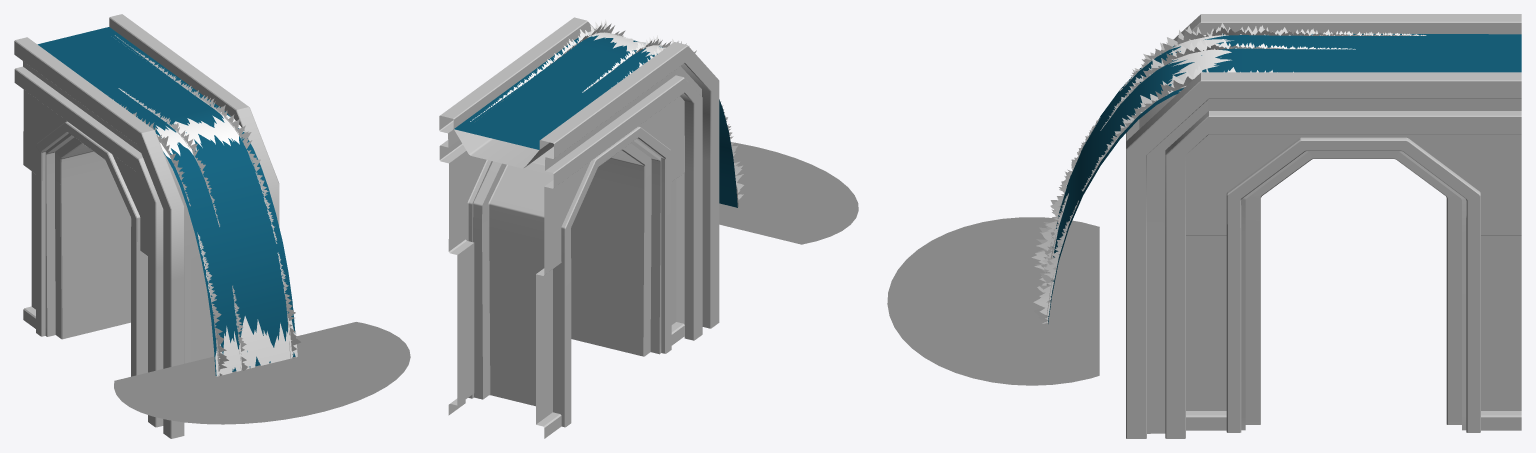
File: Pipe_Input_Cauldron.fbx
3 views of the same model, side by side, from view 1: azimuth 30°, elevation 25°; view 2: azimuth 150°, elevation 25°; view 3: azimuth 270°, elevation 25° (orthographic). The views are drawn at different scales.
Visible parts, largest first — view 1: Pipe_End, Liquid, Surface_Drop_01, Edges_Side, Bot_Edge_Slow, Bot_Edge_Fast, Top_Edge_Slow, Top_Edge_Fast; view 2: Pipe_End, Liquid, Surface_Drop_01, Edges_Side, Top_Edge_Slow; view 3: Pipe_End, Surface_Drop_01, Liquid, Edges_Side, Top_Edge_Slow, Top_Edge_Fast.
Boxes of the visible parts, box(x1,y1,x2,y2) form: Pipe_End: box(14, 14, 279, 438); Liquid: box(37, 27, 295, 375); Surface_Drop_01: box(114, 322, 410, 424); Edges_Side: box(113, 35, 300, 375); Bot_Edge_Slow: box(215, 318, 297, 376); Bot_Edge_Fast: box(216, 316, 297, 376); Top_Edge_Slow: box(156, 112, 244, 154); Top_Edge_Fast: box(161, 112, 239, 158); Pipe_End: box(439, 17, 719, 438); Liquid: box(454, 35, 737, 207); Surface_Drop_01: box(719, 142, 858, 244); Edges_Side: box(470, 19, 743, 200); Top_Edge_Slow: box(587, 31, 661, 56); Pipe_End: box(1126, 14, 1521, 438); Surface_Drop_01: box(887, 217, 1099, 385); Liquid: box(1048, 34, 1521, 323); Edges_Side: box(1031, 23, 1426, 323); Top_Edge_Slow: box(1168, 35, 1233, 91); Top_Edge_Fast: box(1167, 40, 1231, 87).
Bounding box in the file's own units: 1.19 × 1.19 × 1.89.
